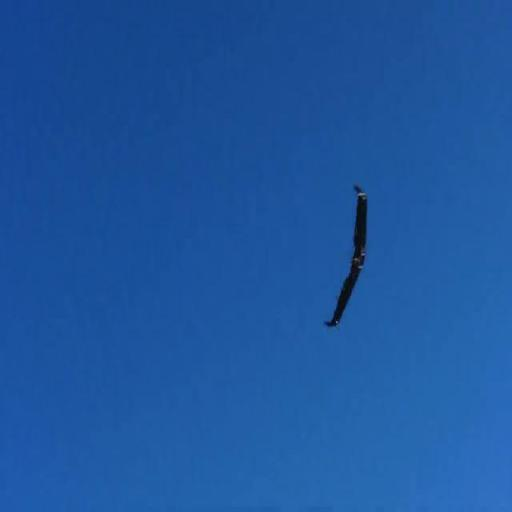uav: (323, 174, 379, 334)
